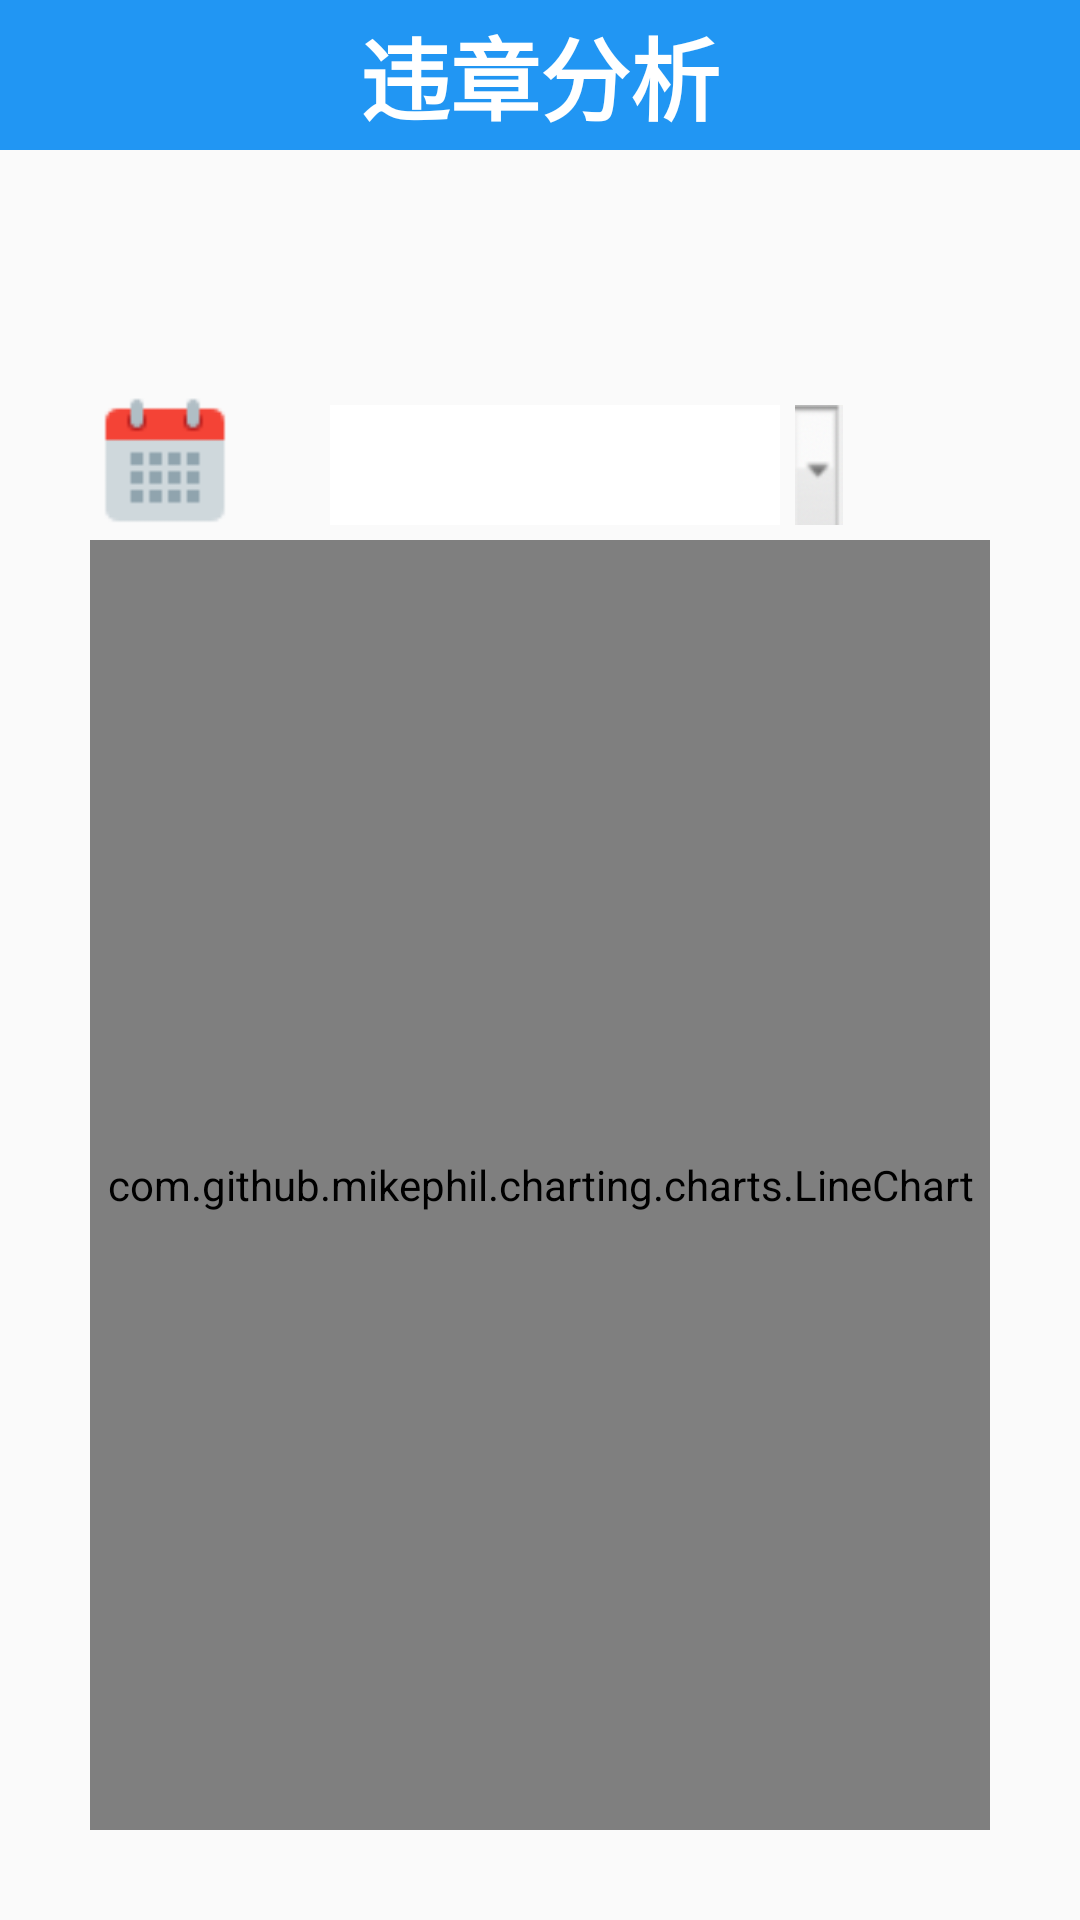

Named icons in this screenshot (1080x1920) and their centers, point (x, y):
rili: point (165, 460)
xiajiantou: point (819, 465)
